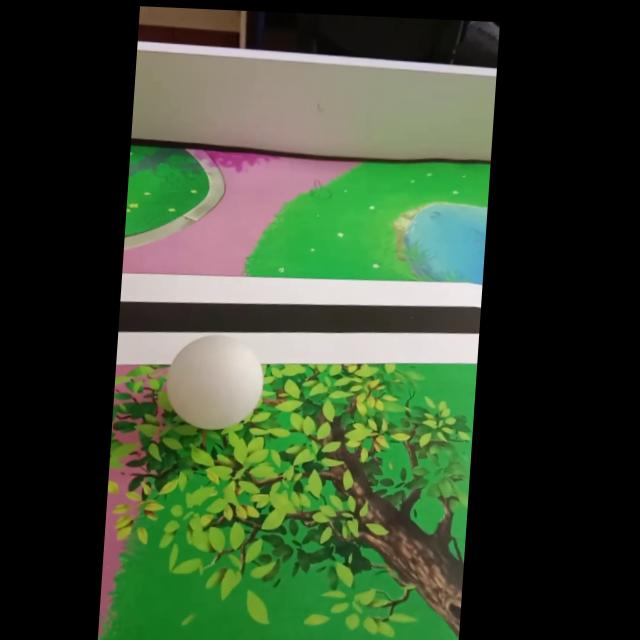white ball: (163, 330, 268, 433)
